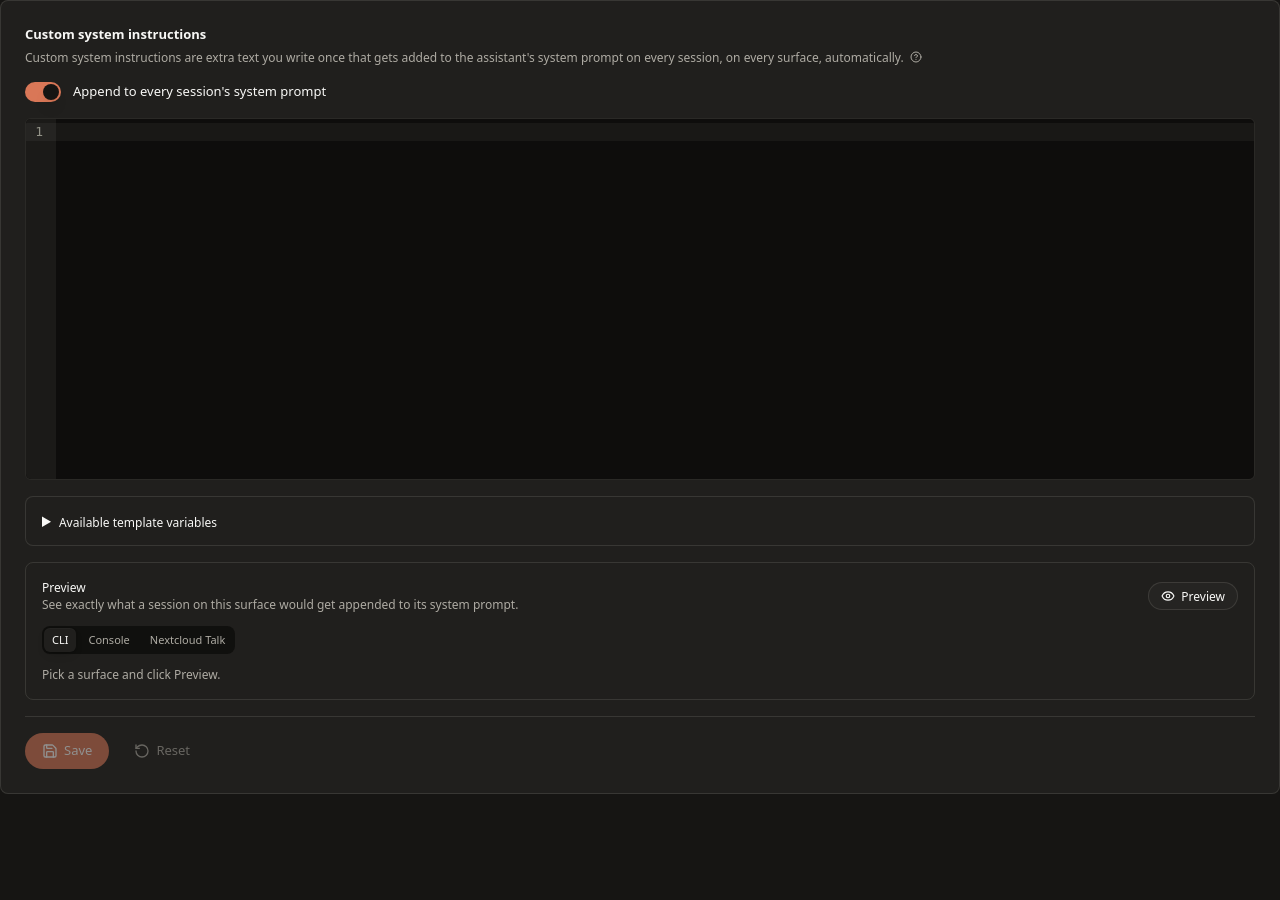
Test case: SystemInstructionsPane variable values › clicking a chip inserts the bare value at the editor's cursor
What coordinates should you click on to do the following:
click the heading "Available template variables"
I would click on:
 (138, 522)
Its box is [59,514,217,531].
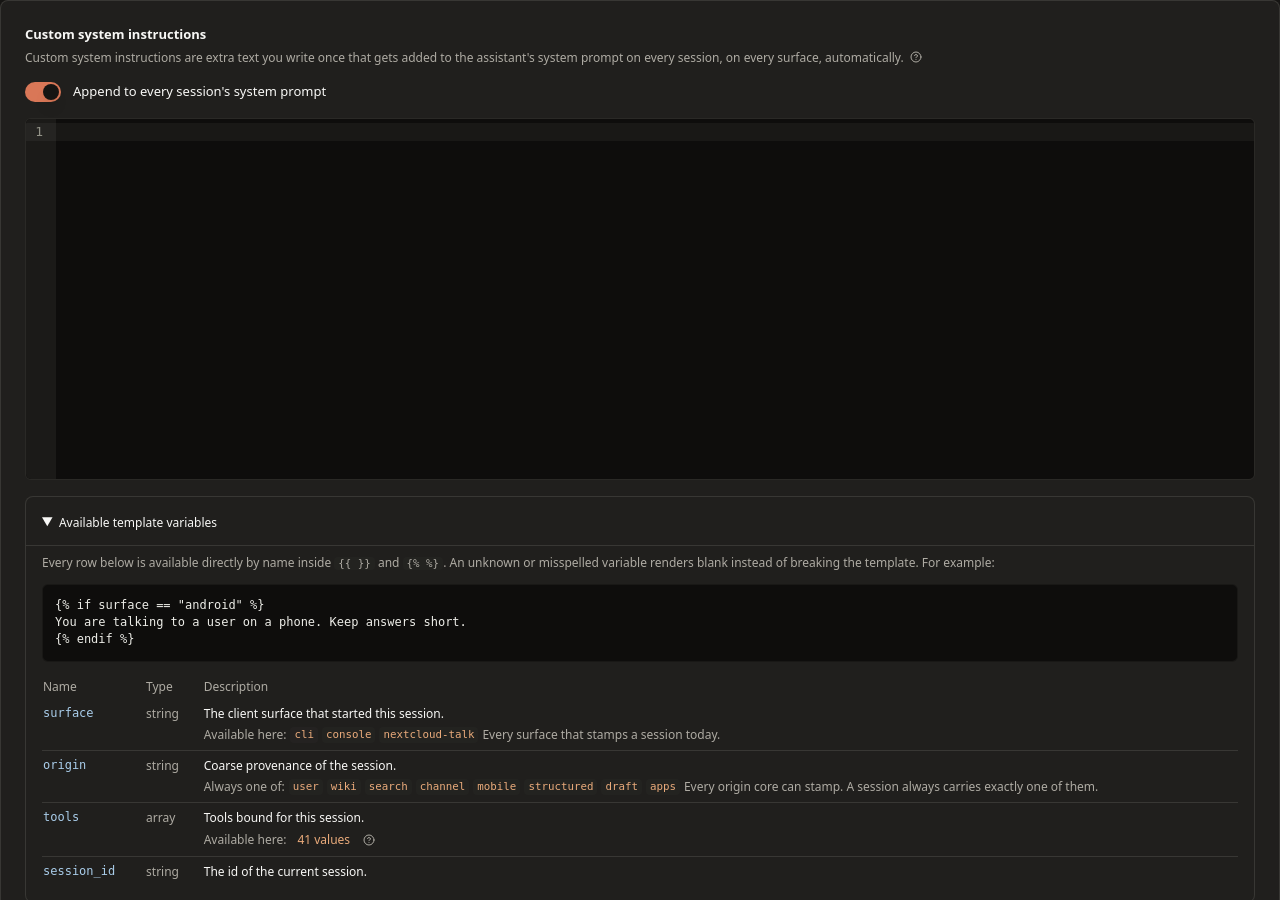
What coordinates should you click on to do the following:
click the button "channel"
I would click on:
 (443, 787)
Its box is [416,779,469,795].
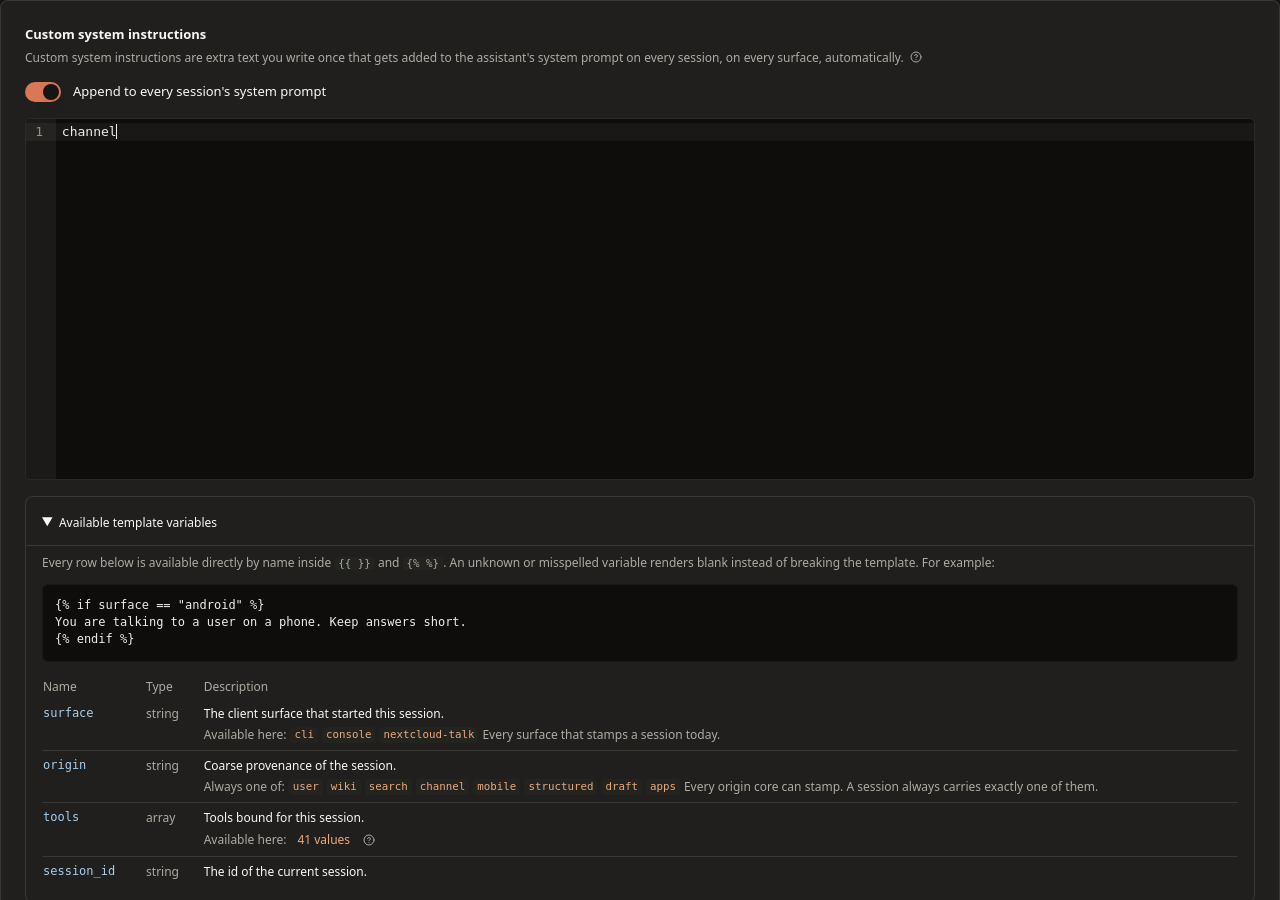
Check: the text box labelled "channel" is shown, box [56,123,1254,141]
